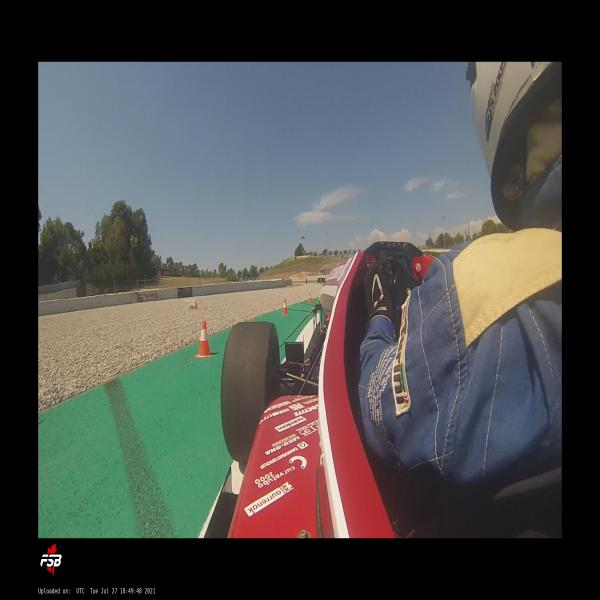orange_cone: (195, 320, 214, 358), (282, 299, 288, 315), (309, 292, 312, 302)
